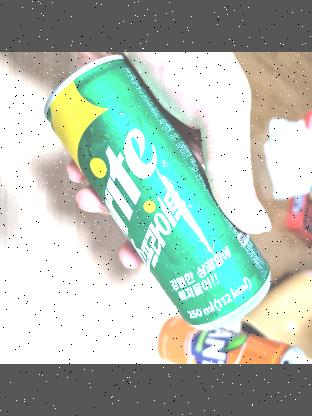Can: (44, 70, 256, 322)
